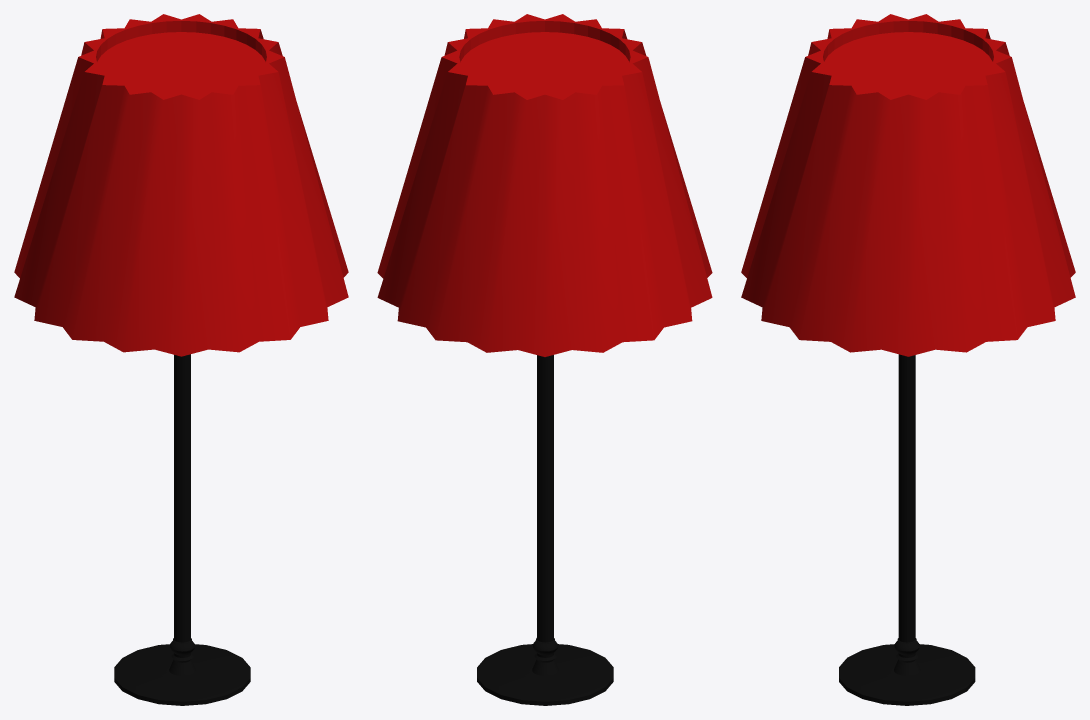
Rendered from lamp.obj.
The picture shows the model from 3 angles, left to right: view 1: azimuth 30°, elevation 25°; view 2: azimuth 150°, elevation 25°; view 3: azimuth 270°, elevation 25°; orthographic projection.
Parts seen in each view (by area): view 1: Cylinder002, Cylinder001; view 2: Cylinder002, Cylinder001; view 3: Cylinder002, Cylinder001.
Part boxes in pixels (x1,y1,x2,y2): Cylinder002: [14, 14, 348, 356]; Cylinder001: [114, 354, 250, 705]; Cylinder002: [377, 14, 712, 356]; Cylinder001: [477, 355, 613, 705]; Cylinder002: [741, 14, 1075, 356]; Cylinder001: [839, 354, 975, 705].
Size of the model in its own units: 44099 by 89017 by 43429.
